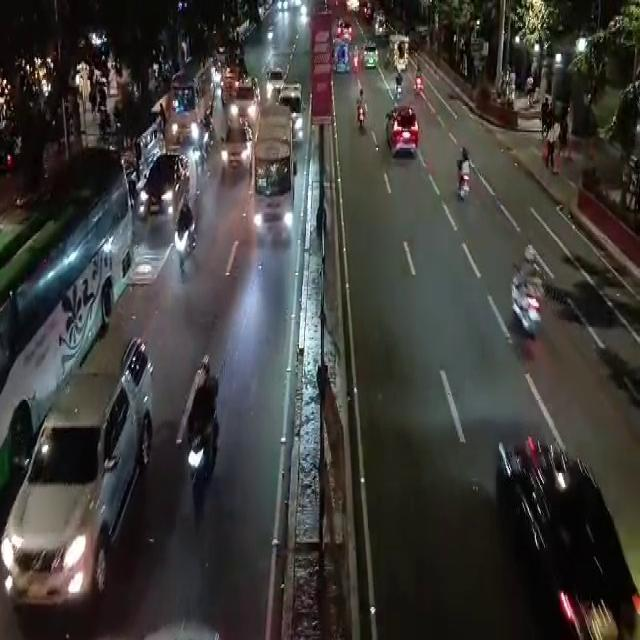bus: (0, 142, 133, 503), (252, 108, 300, 254)
car: (6, 345, 158, 611), (512, 445, 628, 640), (138, 161, 186, 216), (389, 108, 419, 157), (226, 118, 248, 168), (283, 95, 308, 136), (232, 80, 259, 117), (266, 63, 287, 96)
jeepney: (386, 24, 413, 70)
motorcycle: (186, 359, 229, 520), (511, 239, 543, 336), (170, 204, 192, 273), (454, 142, 473, 207), (354, 90, 370, 127), (415, 61, 426, 95), (394, 75, 404, 100)
